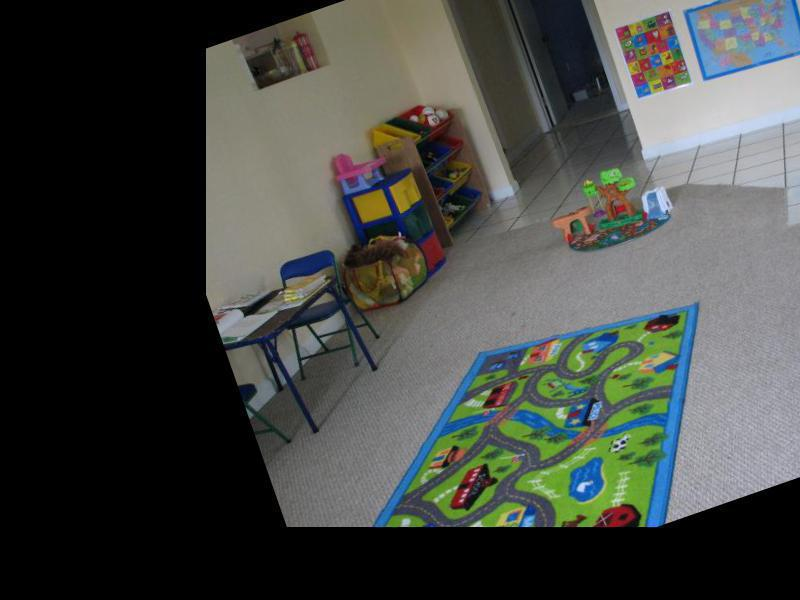Otro Obstaculo: (539, 148, 683, 270)
